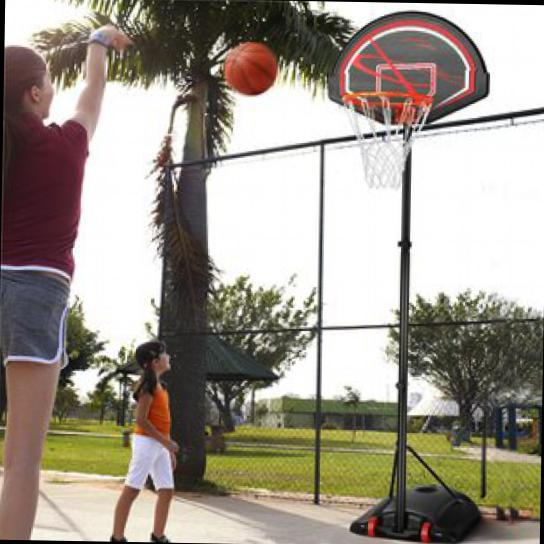basketball-hoop: (337, 87, 435, 191)
